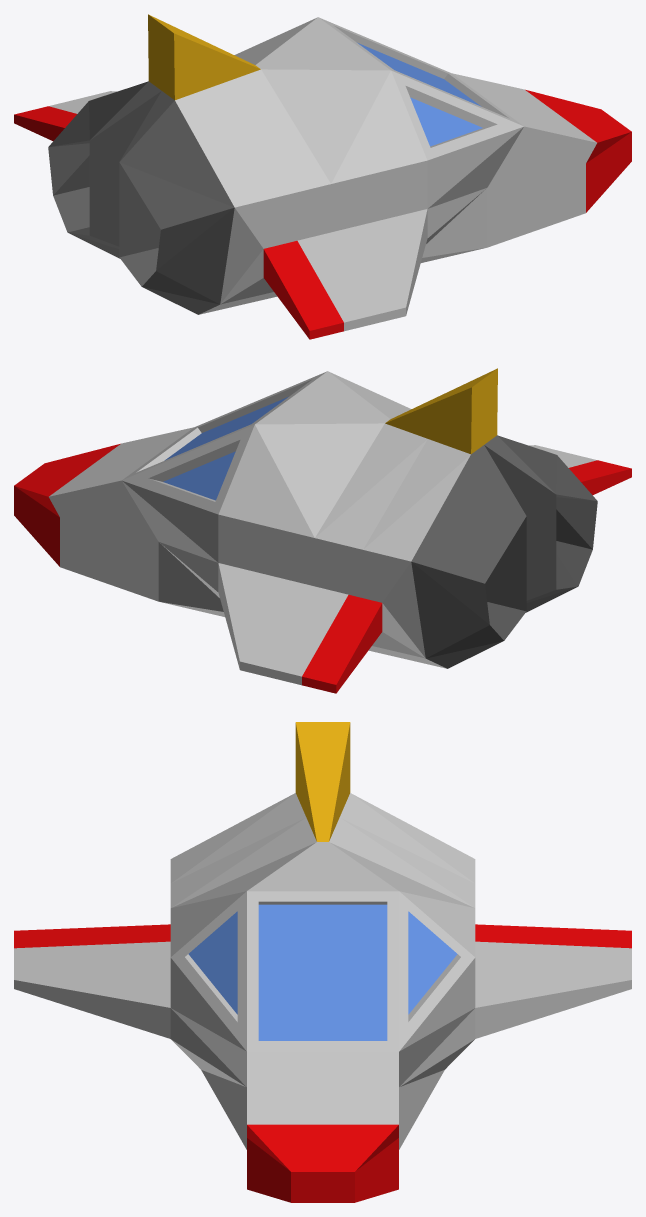
The model's file is JetFighter.dae.
The picture shows the model from 3 angles, top to bottom: view 1: azimuth 30°, elevation 25°; view 2: azimuth 150°, elevation 25°; view 3: azimuth 270°, elevation 25°; orthographic projection. The views are drawn at different scales.
Parts seen in each view (by area): view 1: Cube.001; view 2: Cube.001; view 3: Cube.001.
Boxes of the visible parts, x1,y1,x2,y2 form: Cube.001: (14, 14, 631, 339); Cube.001: (14, 368, 631, 693); Cube.001: (14, 722, 631, 1202).
Size of the model in its own units: 1 by 1 by 0.5.
